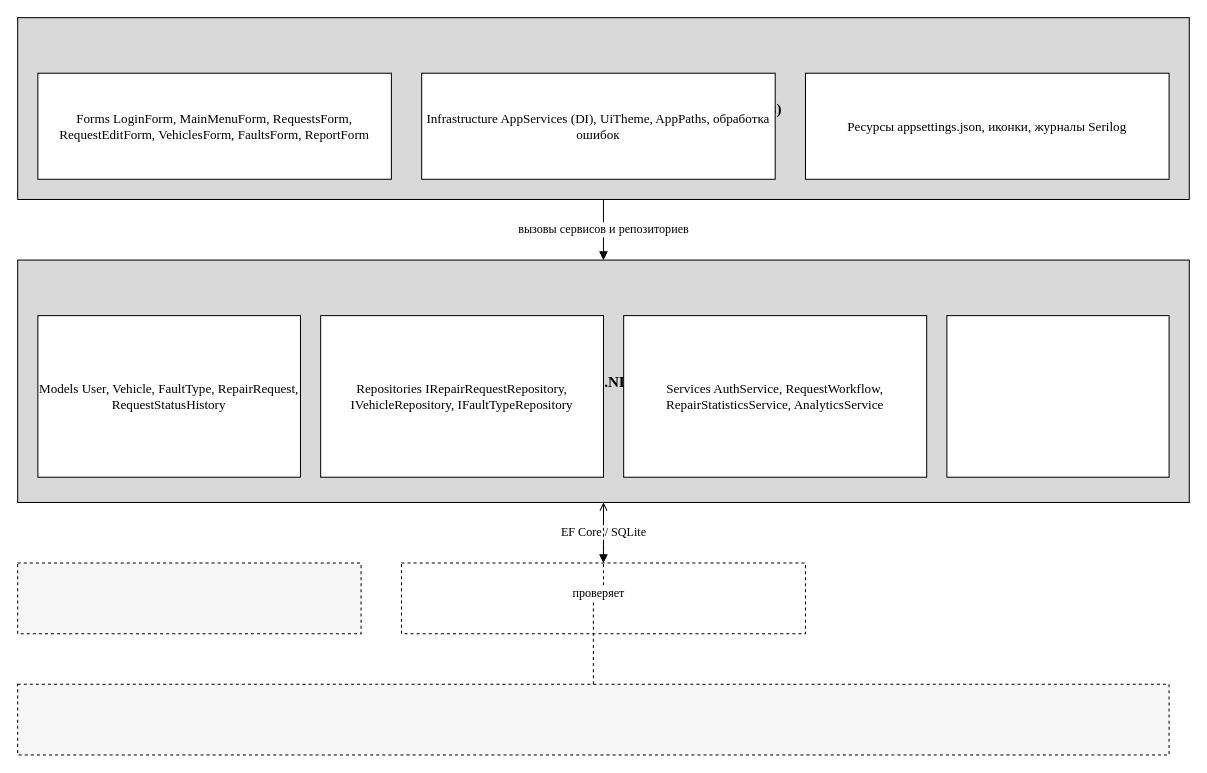
This 1207x773 diagram has some shape labels left out. Each missing label, with the centre of its shape:
Data AppDbContext, DbSeeder, миграции EF Core: the point at 1057,396
RepairRequests.Tests (xUnit) 133 модульных и интеграционных теста: the point at 593,719
SQLite repair-requests.db: the point at 602,598
Внешние библиотеки: EF Core 10, ClosedXML, QuestPDF, Serilog: the point at 189,598
